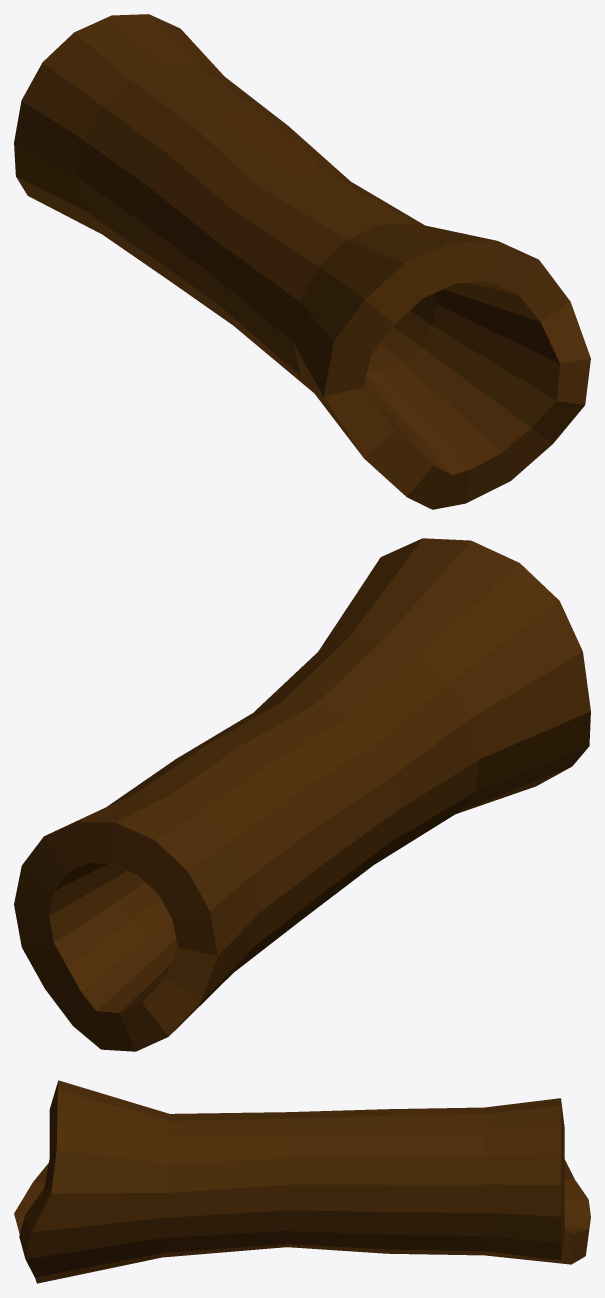
Rendered from Tronc.fbx.
3 renders of one model, top to bottom at view 1: azimuth 30°, elevation 25°; view 2: azimuth 150°, elevation 25°; view 3: azimuth 270°, elevation 25°, orthographic. The views are drawn at different scales.
Visible parts, largest first — view 1: Cylinder; view 2: Cylinder; view 3: Cylinder.
Boxes of the visible parts, <box> form: Cylinder: <box>14,14,590,509</box>; Cylinder: <box>14,538,590,1051</box>; Cylinder: <box>14,1080,590,1283</box>.
Bounding box in the file's own units: 322 × 316 × 893.
